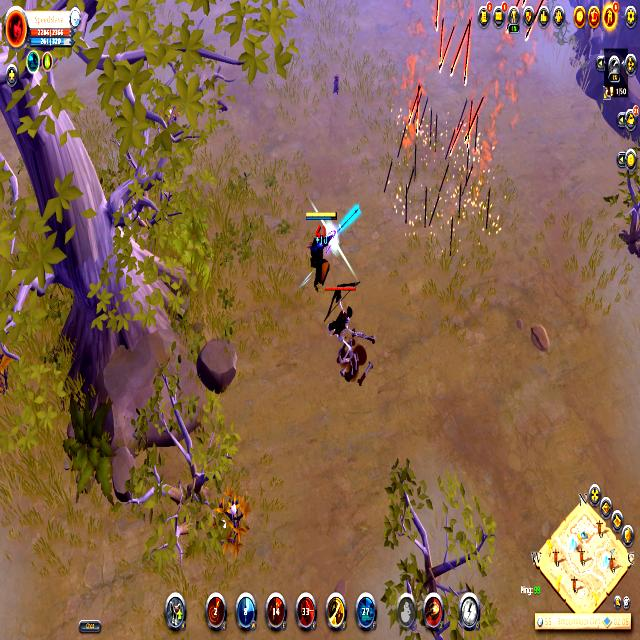hide: (206, 487, 256, 561)
ore: (323, 275, 360, 348)
red: (303, 206, 336, 290)
